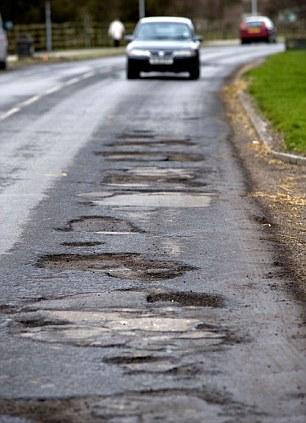pothole: (14, 300, 249, 346), (0, 379, 218, 422), (36, 235, 193, 284), (80, 181, 228, 209), (142, 275, 234, 310), (103, 156, 208, 181), (99, 129, 200, 152), (57, 210, 145, 232), (110, 349, 198, 369)
